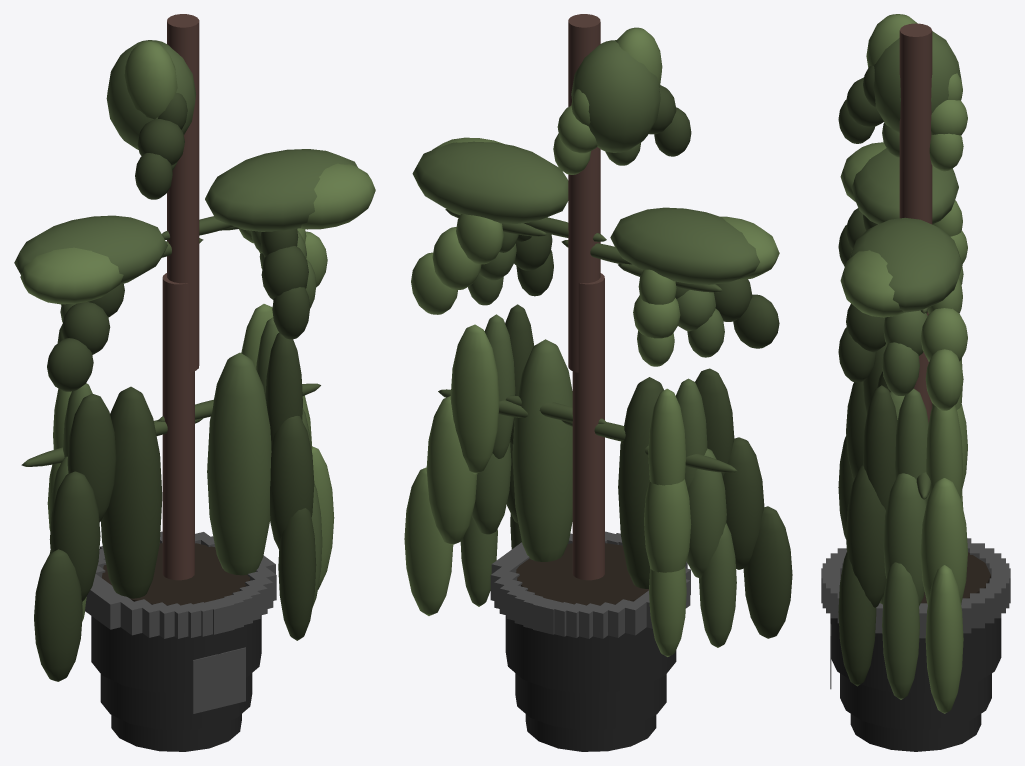
The model's file is CMU3DPottedPlant24.glb.
The picture shows the model from 3 angles, left to right: view 1: azimuth 30°, elevation 25°; view 2: azimuth 150°, elevation 25°; view 3: azimuth 270°, elevation 25°; orthographic projection.
Visible parts, largest first — view 1: overlapping broadleaf tier (×8), continuous tapered leaf blade (×21), branch (×2), upper pot wall, lower tapered pot wall, recessed soil, pot front highlight, narrow pot foot, hollow curved planter rim (×3); view 2: continuous tapered leaf blade (×34), overlapping broadleaf tier (×7), branch (×5), upper pot wall, lower tapered pot wall, recessed soil, narrow pot foot, hollow curved planter rim; view 3: continuous tapered leaf blade (×30), overlapping broadleaf tier (×6), branch (×2), lower tapered pot wall, upper pot wall, narrow pot foot, hollow curved planter rim (×4), recessed soil.
Part boxes in pixels (x1=…): overlapping broadleaf tier (×8): x1=14, y1=40, x2=375, y2=598; continuous tapered leaf blade (×21): x1=34, y1=93, x2=334, y2=681; branch (×2): x1=162, y1=14, x2=199, y2=580; upper pot wall: x1=91, y1=615, x2=261, y2=693; lower tapered pot wall: x1=100, y1=673, x2=252, y2=729; recessed soil: x1=102, y1=543, x2=249, y2=605; pot front highlight: x1=192, y1=647, x2=245, y2=713; narrow pot foot: x1=111, y1=714, x2=241, y2=751; hollow curved planter rim (×3): x1=85, y1=574, x2=159, y2=637; continuous tapered leaf blade (×34): x1=404, y1=85, x2=792, y2=656; overlapping broadleaf tier (×7): x1=412, y1=27, x2=779, y2=588; branch (×5): x1=506, y1=14, x2=737, y2=580; upper pot wall: x1=505, y1=615, x2=676, y2=693; lower tapered pot wall: x1=515, y1=673, x2=666, y2=729; recessed soil: x1=516, y1=543, x2=648, y2=605; narrow pot foot: x1=525, y1=714, x2=656, y2=751; hollow curved planter rim: x1=625, y1=568, x2=690, y2=635; continuous tapered leaf blade (×30): x1=838, y1=66, x2=967, y2=713; overlapping broadleaf tier (×6): x1=840, y1=14, x2=962, y2=317; branch (×2): x1=899, y1=23, x2=932, y2=423; lower tapered pot wall: x1=840, y1=673, x2=991, y2=730; upper pot wall: x1=830, y1=581, x2=1001, y2=693; narrow pot foot: x1=850, y1=714, x2=981, y2=751; hollow curved planter rim (×4): x1=875, y1=588, x2=1001, y2=633; recessed soil: x1=841, y1=552, x2=990, y2=603.
Bounding box in the file's own units: 0.5566 × 1.07 × 0.2635.
